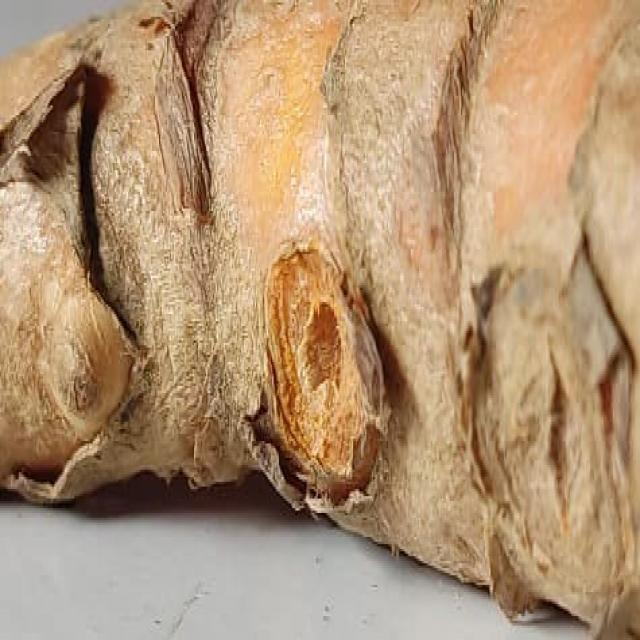ginger: (11, 9, 640, 590)
